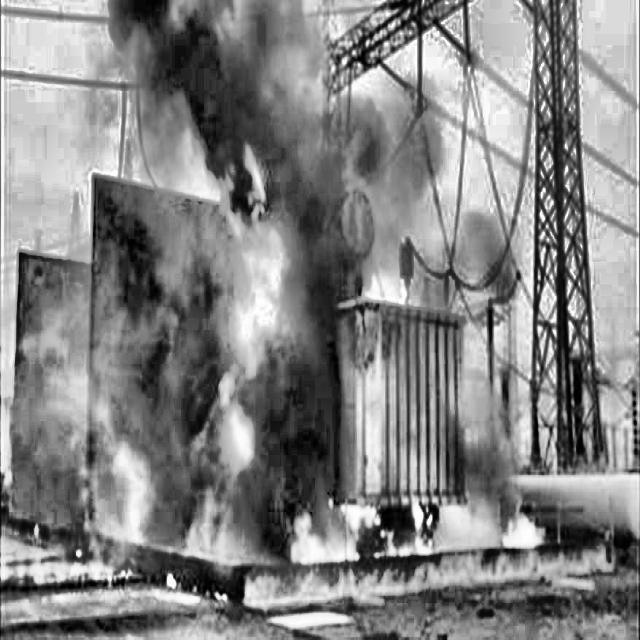fire: (177, 122, 290, 516), (299, 467, 547, 568)
